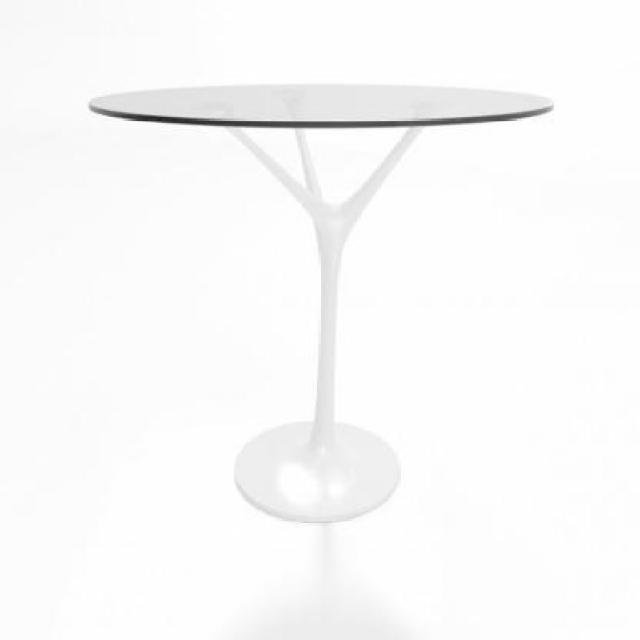table: (83, 81, 555, 524)
